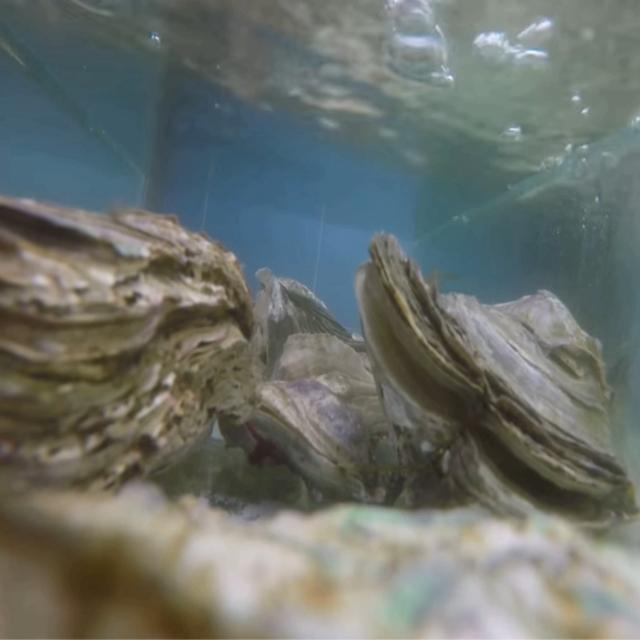Oyster-Closed: (0, 196, 255, 535), (250, 335, 413, 510)
Oyster-Indeterminate: (0, 484, 640, 640), (254, 261, 370, 377)
Oyster-Open: (354, 231, 640, 545)
